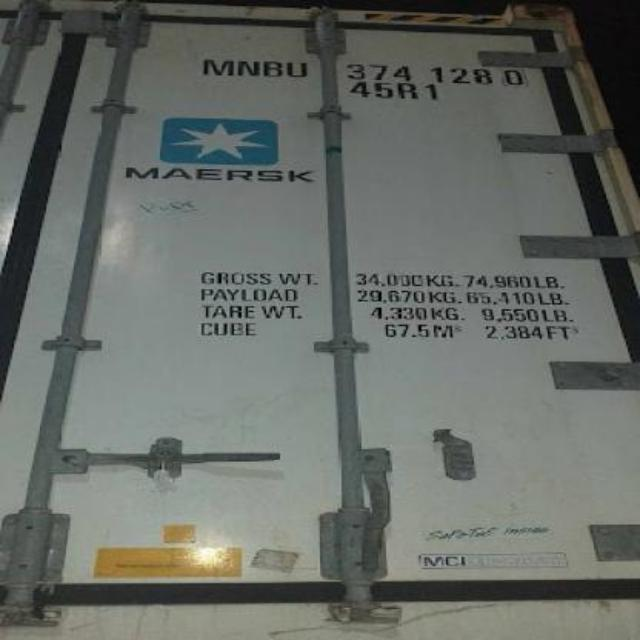0: (498, 66, 528, 88)
1: (424, 59, 450, 86)
2: (446, 59, 474, 86)
3: (346, 59, 364, 82)
4: (392, 61, 420, 84)
7: (367, 60, 388, 80)
8: (470, 61, 498, 91)
B: (260, 54, 284, 80)
M: (194, 51, 238, 84)
N: (232, 53, 260, 83)
U: (286, 54, 308, 84)
